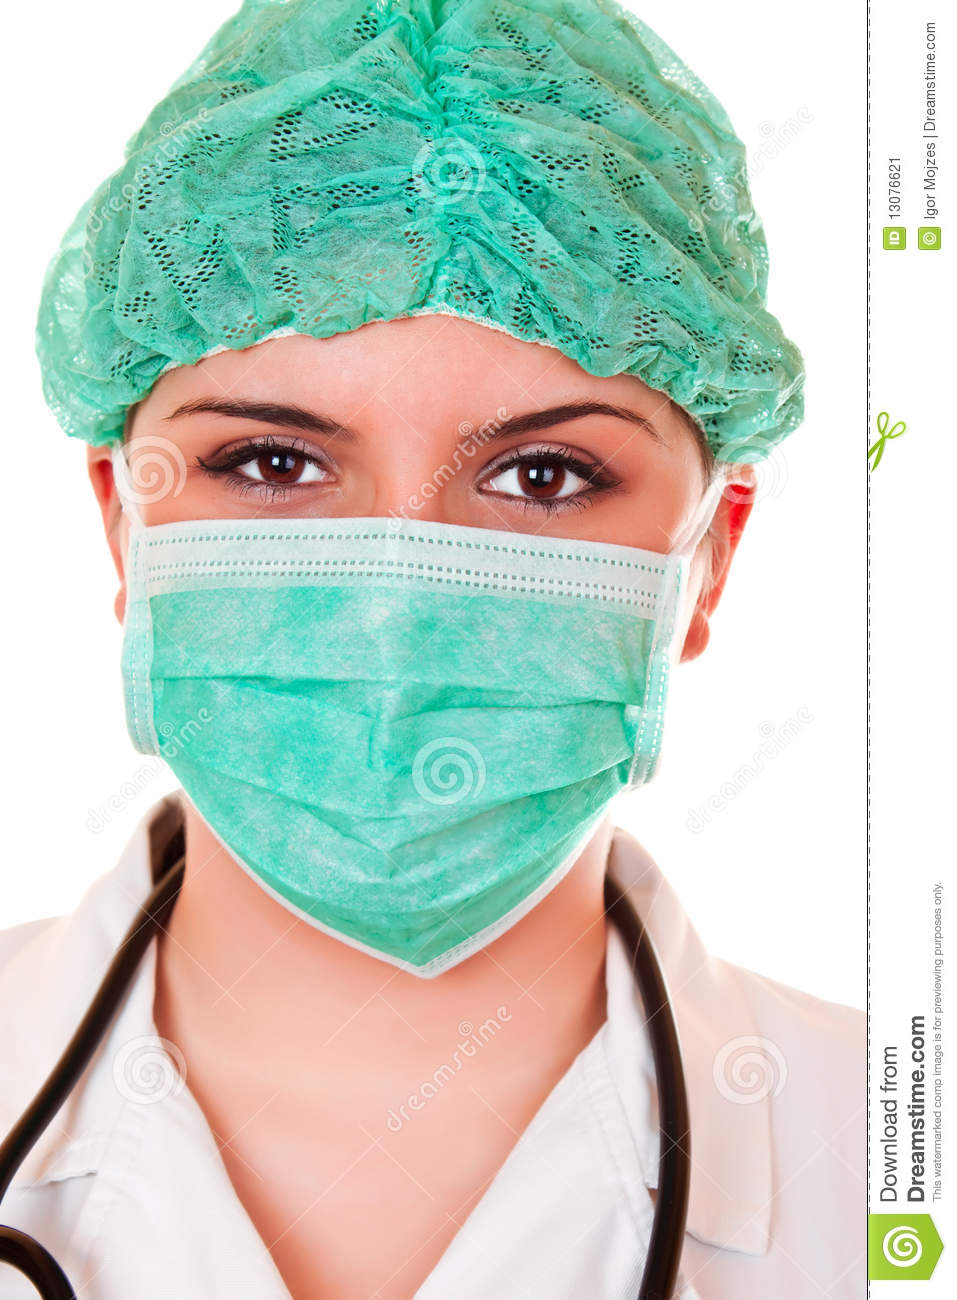mask: (127, 511, 686, 981)
